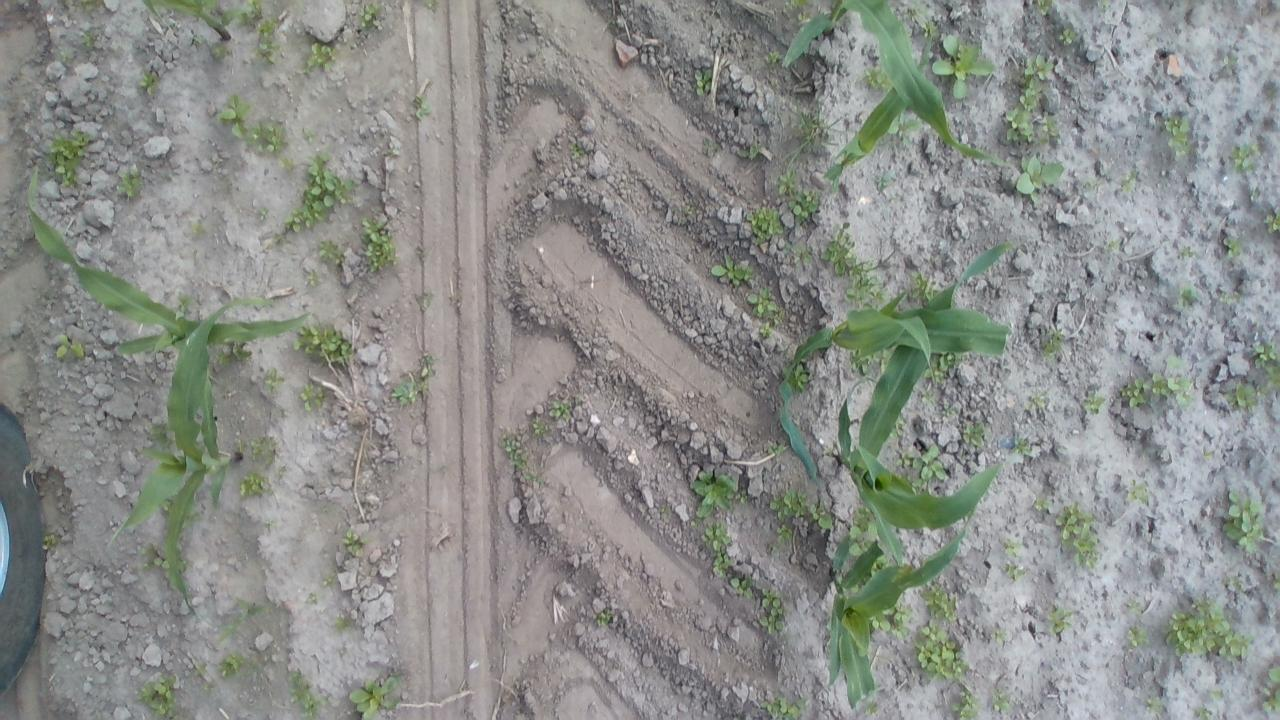Maize: (836, 242, 1016, 568), (24, 164, 312, 358), (110, 298, 272, 634), (778, 287, 1012, 488), (781, 0, 1018, 171), (824, 502, 978, 712), (824, 33, 930, 200), (138, 0, 234, 42)
Weeds: (284, 152, 356, 231), (1162, 597, 1252, 660), (1006, 55, 1059, 146), (932, 33, 996, 99), (913, 620, 969, 683), (45, 128, 94, 189), (1056, 502, 1098, 568), (1222, 491, 1266, 554), (216, 598, 272, 646), (690, 470, 736, 526), (291, 322, 352, 364), (1014, 156, 1064, 203), (843, 261, 889, 312), (786, 112, 830, 164), (350, 676, 399, 720), (359, 215, 396, 272), (820, 222, 856, 277), (138, 672, 178, 720), (702, 522, 734, 578), (286, 668, 320, 720), (868, 602, 914, 638), (918, 582, 957, 622), (1251, 343, 1280, 396), (748, 206, 784, 248), (849, 506, 878, 556), (1152, 373, 1192, 408), (886, 107, 920, 148), (245, 122, 288, 154), (254, 15, 282, 64), (748, 288, 786, 324), (220, 94, 251, 138), (711, 256, 756, 286), (759, 587, 786, 635), (1164, 114, 1194, 156), (849, 346, 893, 374), (912, 444, 946, 480), (760, 694, 806, 720), (302, 40, 337, 74), (924, 352, 962, 383), (217, 652, 260, 679), (789, 190, 820, 226), (770, 489, 807, 519), (499, 434, 529, 469), (904, 1, 930, 38), (392, 380, 428, 406), (1120, 378, 1151, 408), (950, 690, 981, 720), (1226, 382, 1258, 411), (114, 169, 144, 199), (54, 332, 86, 360), (860, 66, 894, 92), (238, 472, 272, 498), (1229, 144, 1259, 173), (782, 362, 808, 395), (910, 272, 939, 301), (893, 471, 928, 495), (248, 436, 276, 466), (1048, 606, 1074, 636), (148, 421, 174, 451), (140, 543, 170, 569), (1040, 329, 1064, 360), (782, 242, 814, 265), (1124, 478, 1150, 506), (340, 530, 368, 556), (234, 0, 264, 23), (300, 383, 323, 411), (809, 500, 832, 528), (962, 422, 986, 448), (318, 240, 344, 264), (774, 169, 797, 194), (358, 3, 381, 28), (262, 368, 284, 394), (1083, 391, 1106, 415), (1175, 284, 1198, 308), (1125, 626, 1148, 649), (139, 70, 161, 94), (730, 576, 754, 598), (180, 502, 200, 528), (694, 69, 713, 96), (1261, 687, 1280, 712), (870, 555, 892, 576), (991, 689, 1011, 712), (1002, 562, 1024, 582), (1222, 236, 1242, 258), (414, 94, 432, 118), (1025, 391, 1047, 410), (548, 400, 570, 419), (736, 144, 760, 161), (886, 416, 904, 438), (175, 292, 193, 314), (230, 342, 252, 360), (1001, 538, 1021, 556), (1120, 170, 1136, 192), (1265, 212, 1280, 235), (1058, 28, 1077, 46), (1011, 437, 1030, 454), (990, 628, 1009, 645), (1034, 0, 1055, 15), (776, 524, 793, 542), (79, 31, 95, 50), (333, 616, 352, 632), (1144, 698, 1164, 713), (594, 610, 612, 626), (918, 388, 934, 406), (876, 173, 892, 190), (42, 534, 59, 550), (567, 142, 585, 157), (1032, 496, 1051, 510), (524, 471, 546, 483), (1267, 664, 1280, 684), (1223, 577, 1243, 590), (422, 356, 435, 376), (896, 451, 913, 466), (190, 218, 205, 235), (161, 494, 176, 511), (702, 136, 714, 156), (278, 155, 294, 170), (215, 349, 229, 366), (1196, 707, 1214, 720), (767, 444, 786, 456), (760, 322, 774, 338), (532, 420, 546, 436), (80, 0, 100, 11), (211, 45, 227, 58), (307, 270, 319, 287), (1220, 294, 1240, 304), (1128, 600, 1142, 614), (322, 572, 336, 586), (1181, 246, 1196, 259), (1166, 356, 1182, 368), (864, 701, 878, 714), (796, 11, 811, 23), (764, 50, 779, 62), (940, 404, 956, 415), (788, 0, 810, 8), (177, 556, 188, 572), (1104, 240, 1120, 250), (422, 292, 432, 308), (194, 663, 207, 675), (736, 490, 749, 502), (304, 129, 314, 143), (1273, 571, 1280, 590), (60, 50, 72, 61), (237, 438, 247, 451), (263, 518, 276, 528), (202, 0, 218, 8), (1083, 179, 1095, 189), (423, 0, 436, 9), (320, 695, 330, 706), (822, 447, 834, 456), (259, 208, 268, 219), (306, 594, 318, 602), (1210, 689, 1220, 698), (770, 544, 779, 554), (684, 205, 692, 215), (192, 36, 202, 44), (202, 682, 210, 692), (1204, 450, 1212, 459), (1100, 0, 1110, 7)
